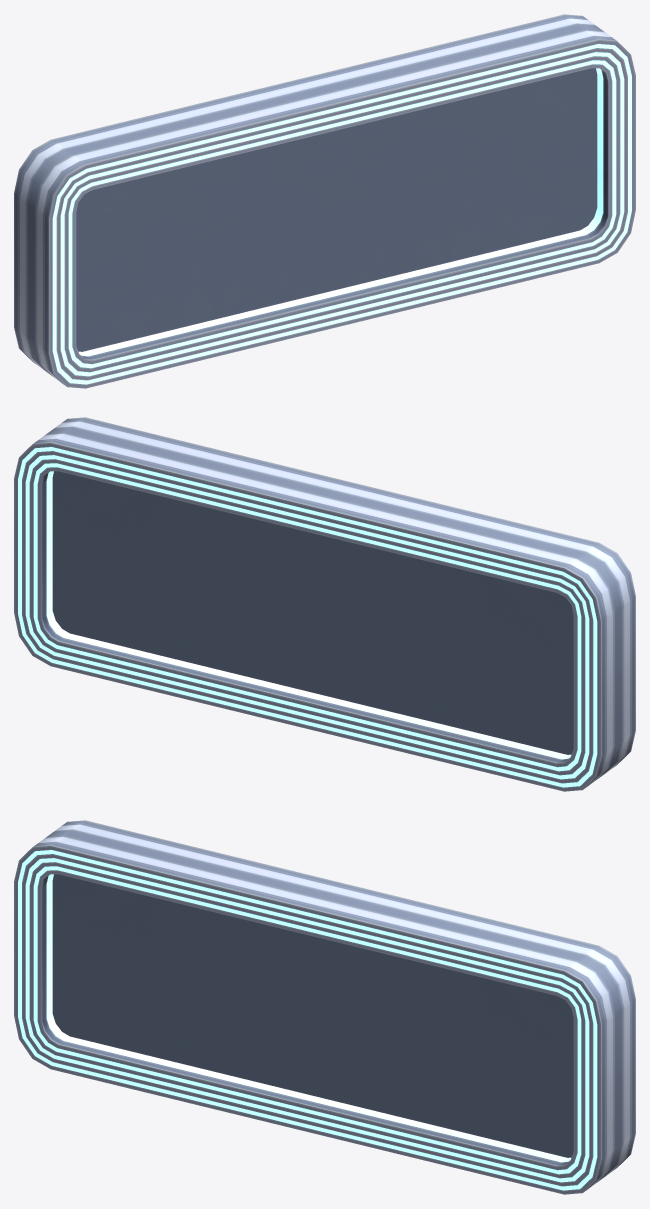
Rendered from obj_date.gltf.
3 views of the same model, one above another, from view 1: azimuth 30°, elevation 25°; view 2: azimuth 150°, elevation 25°; view 3: azimuth 330°, elevation 25° (orthographic).
Parts seen in each view (by area): view 1: obj_date; view 2: obj_date; view 3: obj_date.
Part boxes in pixels (x1=…): obj_date: x1=14, y1=14, x2=635, y2=388; obj_date: x1=14, y1=417, x2=635, y2=791; obj_date: x1=14, y1=820, x2=635, y2=1194.
Size of what is drawn, in the model's own units: 4.27 by 1.55 by 0.439.
Materials: 2 (1 with a texture image).
